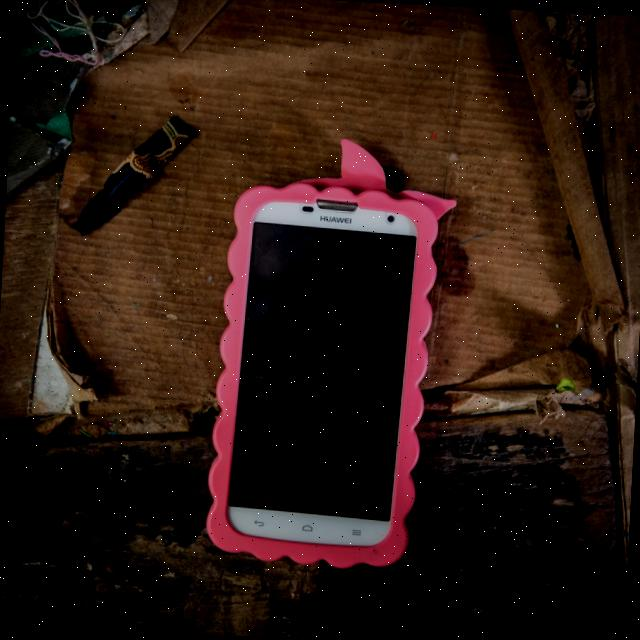Phone: (204, 132, 458, 572)
